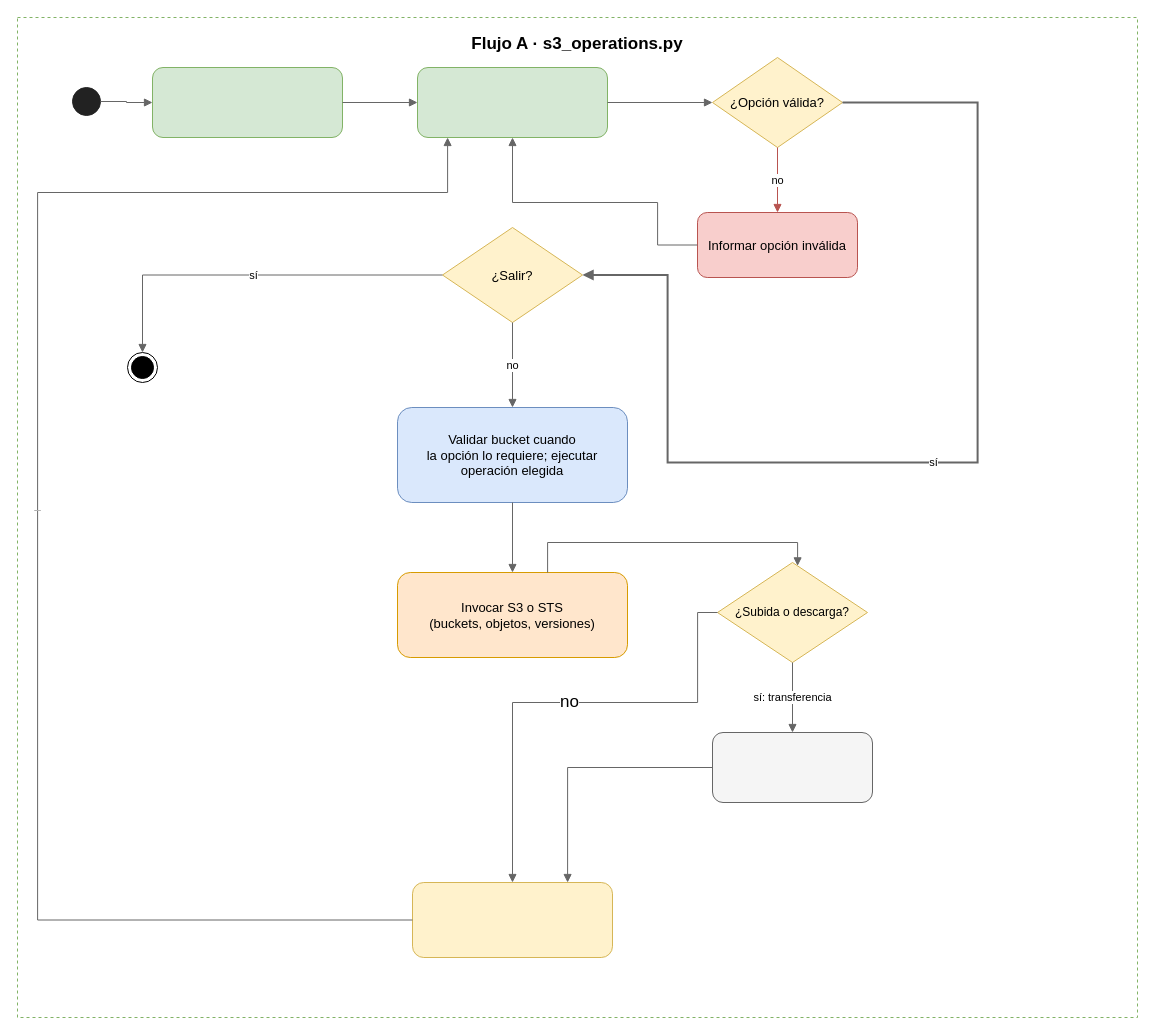
Some shapes in this 1155 by 1035 pixel diagram are drawn without their labels. Each missing label, with the box of its shape:
Ejecutar script s3_operations.py: (152, 66, 342, 138)
Leer o escribir archivo local: (712, 732, 872, 802)
Mostrar menú y leer opción: (416, 66, 608, 138)
Mostrar resultado o informar error: (412, 882, 612, 958)
